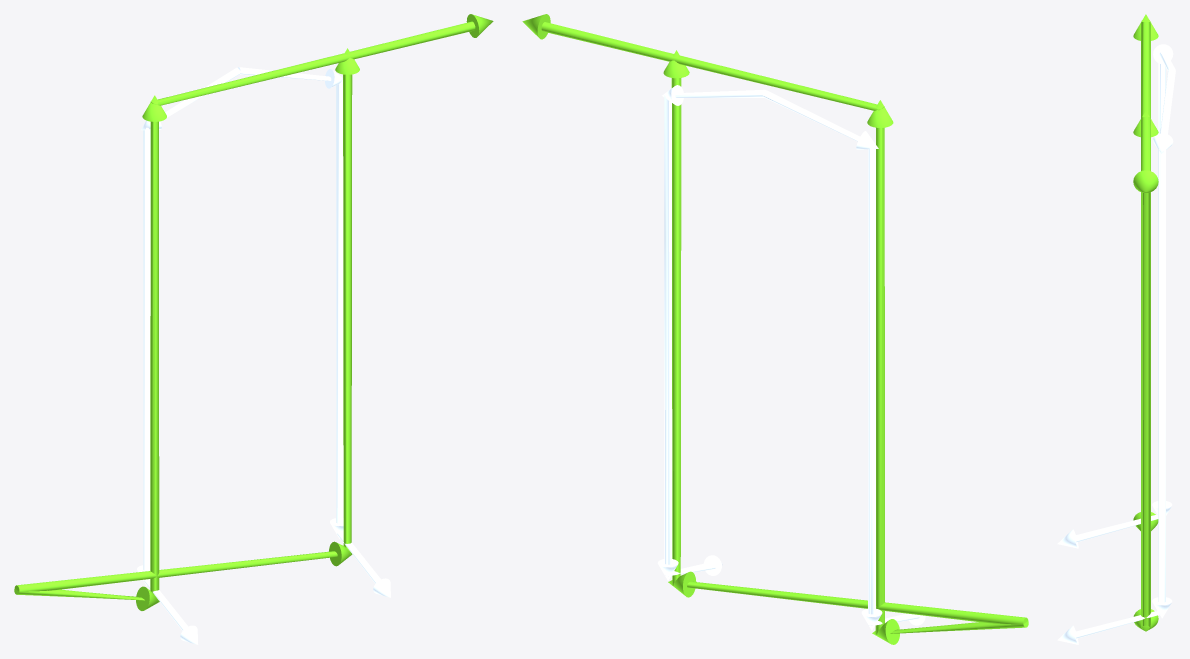
Rendered from desiccant_dryer_flow.glb.
3 renders of one model, left to right at view 1: azimuth 30°, elevation 25°; view 2: azimuth 150°, elevation 25°; view 3: azimuth 270°, elevation 25°, orthographic. The views are drawn at different scales.
Visible parts, largest first — view 1: drying_left, drying_right, purge_right, purge_left; view 2: drying_left, drying_right, purge_left, purge_right; view 3: purge_right, drying_right, drying_left, purge_left.
Part boxes in pixels (left/top/right/bottom): drying_left: left=14, top=14, right=493, bottom=610; drying_right: left=14, top=28, right=475, bottom=591; purge_right: left=238, top=67, right=390, bottom=597; purge_left: left=137, top=67, right=240, bottom=644; drying_left: left=522, top=14, right=1028, bottom=644; drying_right: left=542, top=27, right=1028, bottom=624; purge_left: left=763, top=90, right=925, bottom=630; purge_right: left=657, top=85, right=765, bottom=580; purge_right: left=1057, top=68, right=1175, bottom=644; drying_right: left=1133, top=111, right=1158, bottom=631; drying_left: left=1133, top=14, right=1158, bottom=530; purge_left: left=1057, top=44, right=1175, bottom=548.
Size of the model in its own units: 1.73 by 1.82 by 0.3649.
